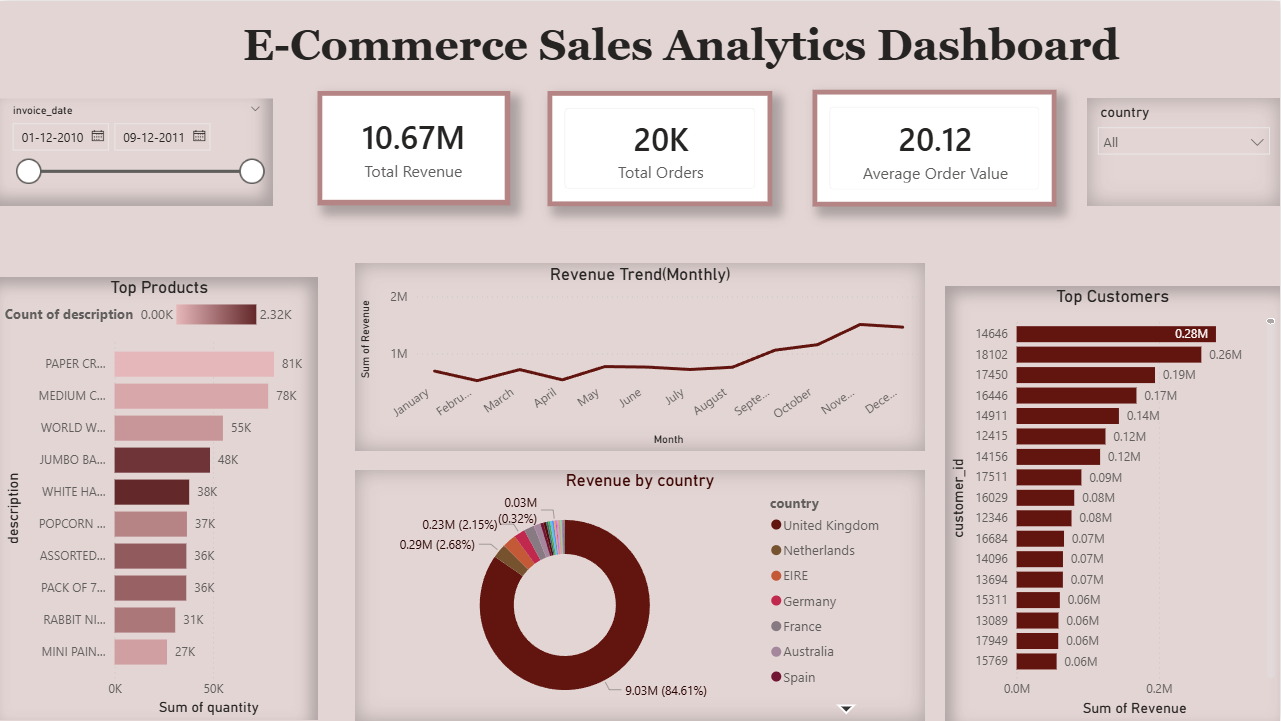

The page's visual inventory and layout, read from the dashboard file:
{"tool":"powerbi","page":{"name":"Page 1","canvas":[1280,720],"ordinal":0},"visuals":[{"type":"cardVisual","fields":{"Data":["transactions_clean.Total Revenue"]},"box":[317.1,90,192.9,114.3],"z":0},{"type":"cardVisual","fields":{"Data":["transactions_clean.Total Orders"]},"box":[547.5,90,225,115],"z":1},{"type":"cardVisual","fields":{"Data":["transactions_clean.Average Order Value"]},"box":[812.9,88.6,244.3,117.1],"z":2},{"type":"lineChart","title":"Revenue Trend(Monthly)","fields":{"Category":["transactions_clean.invoice_date.Variation.Date Hierarchy.Month"],"Y":["Sum(transactions_clean.Revenue)"]},"box":[355,262.5,570,187.5],"z":3},{"type":"clusteredBarChart","title":"Top Products","fields":{"Category":["transactions_clean.description"],"Y":["Sum(transactions_clean.quantity)"]},"box":[0,276.7,318.3,443.3],"z":4},{"type":"donutChart","title":"Revenue by country","fields":{"Category":["transactions_clean.country"],"Y":["Sum(transactions_clean.Revenue)"]},"box":[355,468.3,570,251.7],"z":5},{"type":"barChart","title":"Top Customers","fields":{"Category":["transactions_clean.customer_id"],"Y":["Sum(transactions_clean.Revenue)"]},"box":[945,285,335,435],"z":6},{"type":"textbox","box":[217.5,15,927.5,72.5],"z":7},{"type":"slicer","fields":{"Values":["transactions_clean.country"]},"box":[1087.5,97.5,192.5,107.5],"z":8},{"type":"slicer","fields":{"Values":["transactions_clean.invoice_date"]},"box":[0,97.1,272.9,107.1],"z":9}]}

Visuals, with their boxes in screenshot pixels (x1, y1, x2, y2), scaled from the page's 1280x720 canvas onto the 1281x721 screenshot:
cardVisual - transactions_clean.Total Revenue: bbox(317, 90, 510, 205)
cardVisual - transactions_clean.Total Orders: bbox(548, 90, 773, 205)
cardVisual - transactions_clean.Average Order Value: bbox(814, 89, 1058, 206)
"Revenue Trend(Monthly)" lineChart: bbox(355, 263, 926, 451)
"Top Products" clusteredBarChart: bbox(0, 277, 319, 720)
"Revenue by country" donutChart: bbox(355, 469, 926, 720)
"Top Customers" barChart: bbox(946, 285, 1280, 720)
textbox: bbox(218, 15, 1146, 88)
slicer - transactions_clean.country: bbox(1088, 98, 1280, 205)
slicer - transactions_clean.invoice_date: bbox(0, 97, 273, 204)
